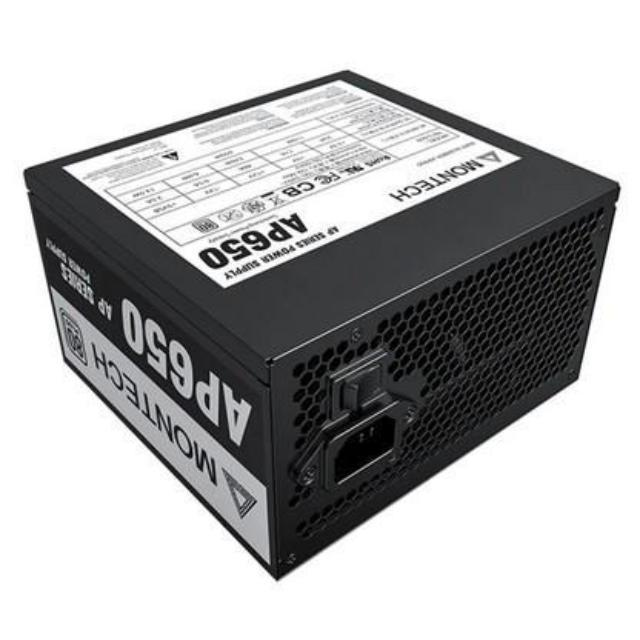PSU: (18, 65, 632, 592)
